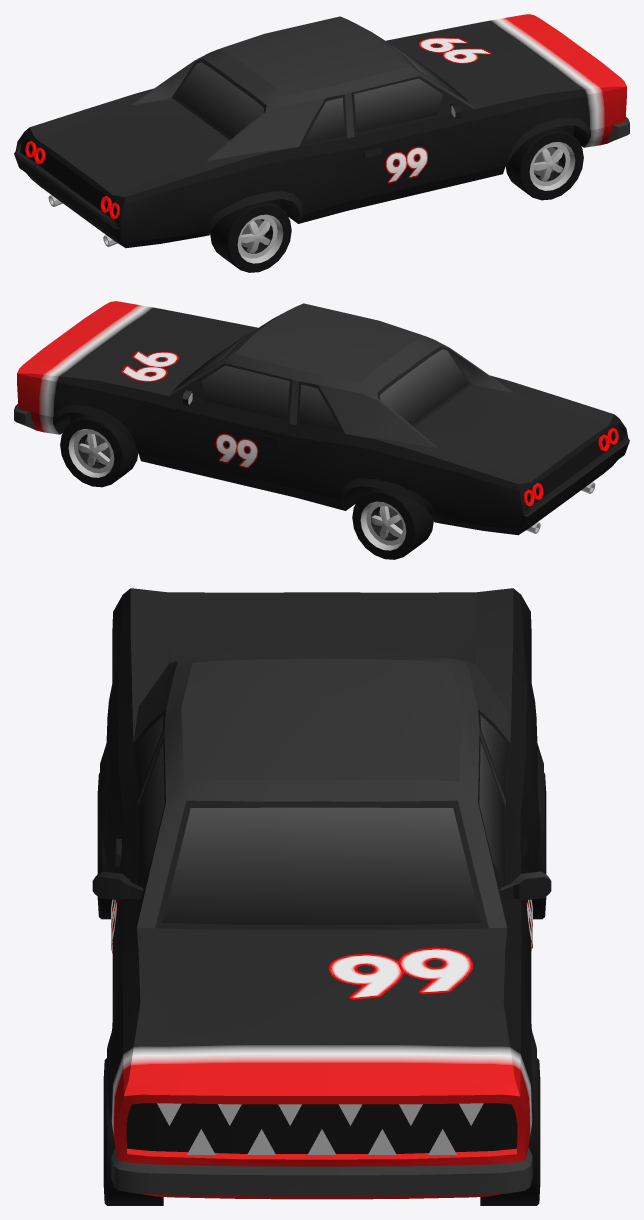
The model's file is Car_150.glb.
The picture shows the model from 3 angles, top to bottom: view 1: azimuth 30°, elevation 25°; view 2: azimuth 150°, elevation 25°; view 3: azimuth 270°, elevation 25°; orthographic projection. The views are drawn at different scales.
Visible parts, largest first — view 1: Car_150, wheel_3_Car_150_Wheel_2R, wheel_1_Car_150_Wheel_1R; view 2: Car_150, wheel_2_Car_150_Wheel_2L, wheel_0_Car_150_Wheel_1L; view 3: Car_150, wheel_1_Car_150_Wheel_1R, wheel_0_Car_150_Wheel_1L.
Part boxes in pixels (bbox=[...]): Car_150: bbox=[14, 14, 629, 248]; wheel_3_Car_150_Wheel_2R: bbox=[210, 200, 291, 272]; wheel_1_Car_150_Wheel_1R: bbox=[505, 127, 583, 200]; Car_150: bbox=[14, 301, 629, 535]; wheel_2_Car_150_Wheel_2L: bbox=[352, 487, 433, 559]; wheel_0_Car_150_Wheel_1L: bbox=[60, 414, 138, 487]; Car_150: bbox=[92, 588, 551, 1199]; wheel_1_Car_150_Wheel_1R: bbox=[103, 1058, 163, 1205]; wheel_0_Car_150_Wheel_1L: bbox=[480, 1058, 540, 1205].
Bounding box in the file's own units: 5.04 × 1.42 × 1.93.
Materials: 3 (3 with a texture image).
